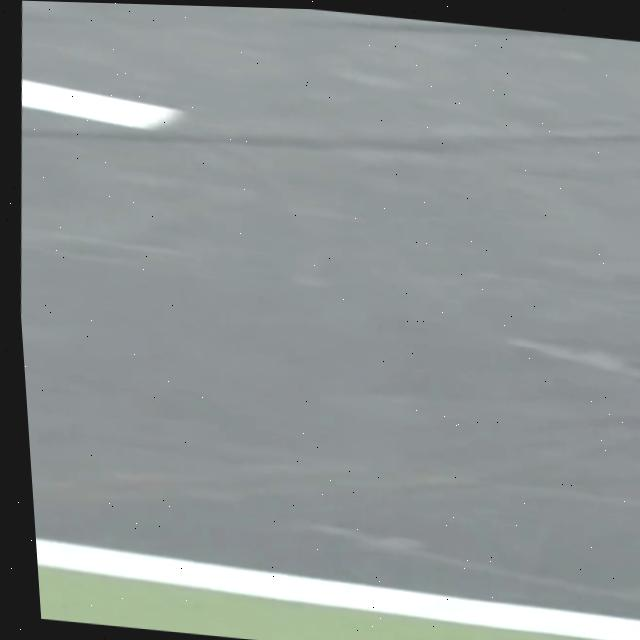center: (21, 78, 181, 127)
right: (36, 536, 640, 640)
